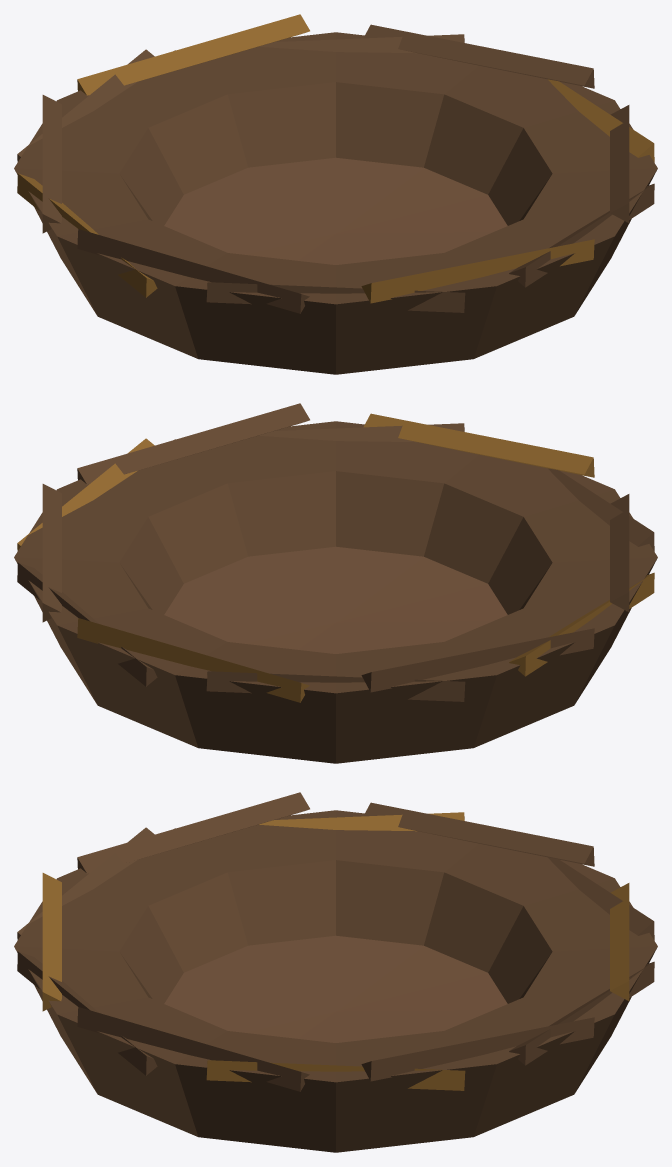
The model's file is stork-nest.glb.
3 views of the same model, one above another, from view 1: azimuth 30°, elevation 25°; view 2: azimuth 150°, elevation 25°; view 3: azimuth 270°, elevation 25° (orthographic).
Visible parts, largest first — view 1: nest; view 2: nest; view 3: nest.
Part boxes in pixels (x1,y1,x2,y2): nest: [14, 14, 657, 374]; nest: [14, 403, 657, 763]; nest: [14, 792, 657, 1152].
Size of the model in its own units: 0.3667 by 0.069 by 0.3667.
